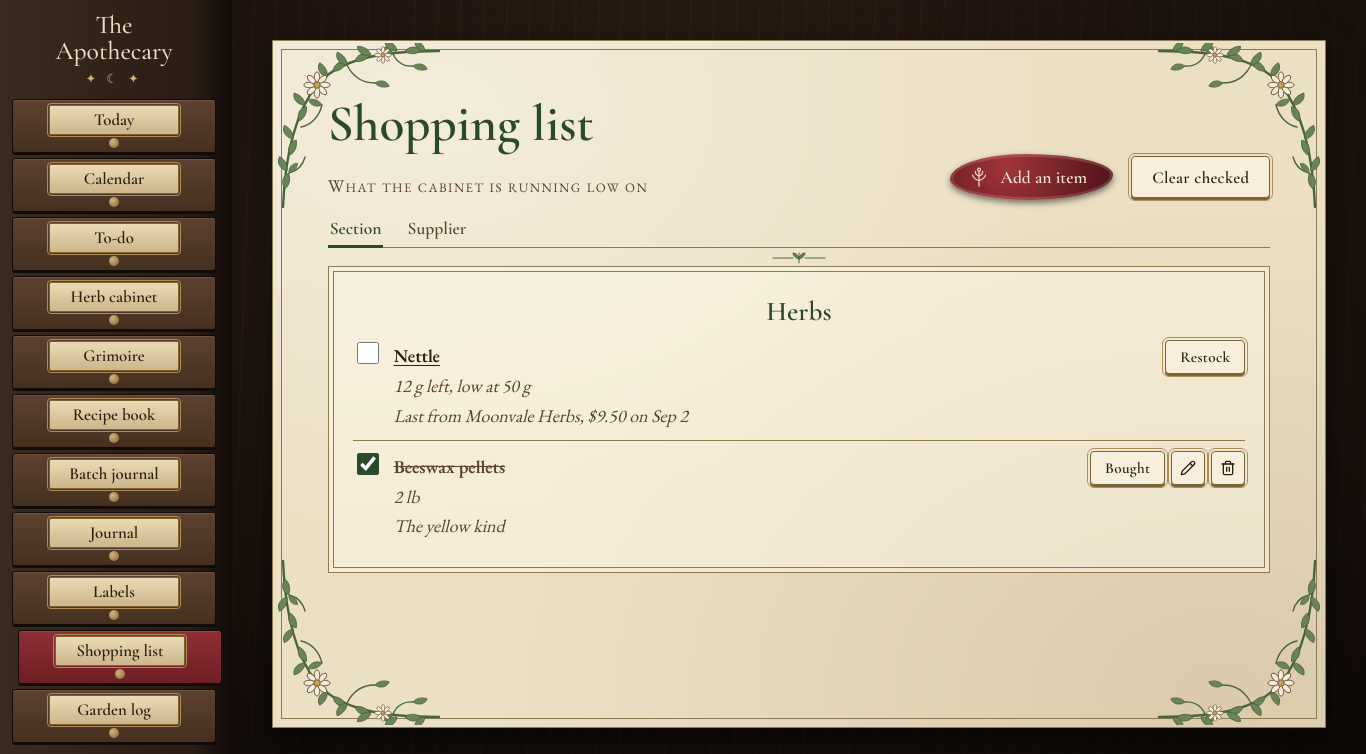
sends one clear for a double click
Expected: the checkbox named "Nettle" is shown, left=357, top=342, right=379, bottom=364
Double-click the button "Clear checked" at [1201, 177], box left=1131, top=156, right=1270, bottom=198
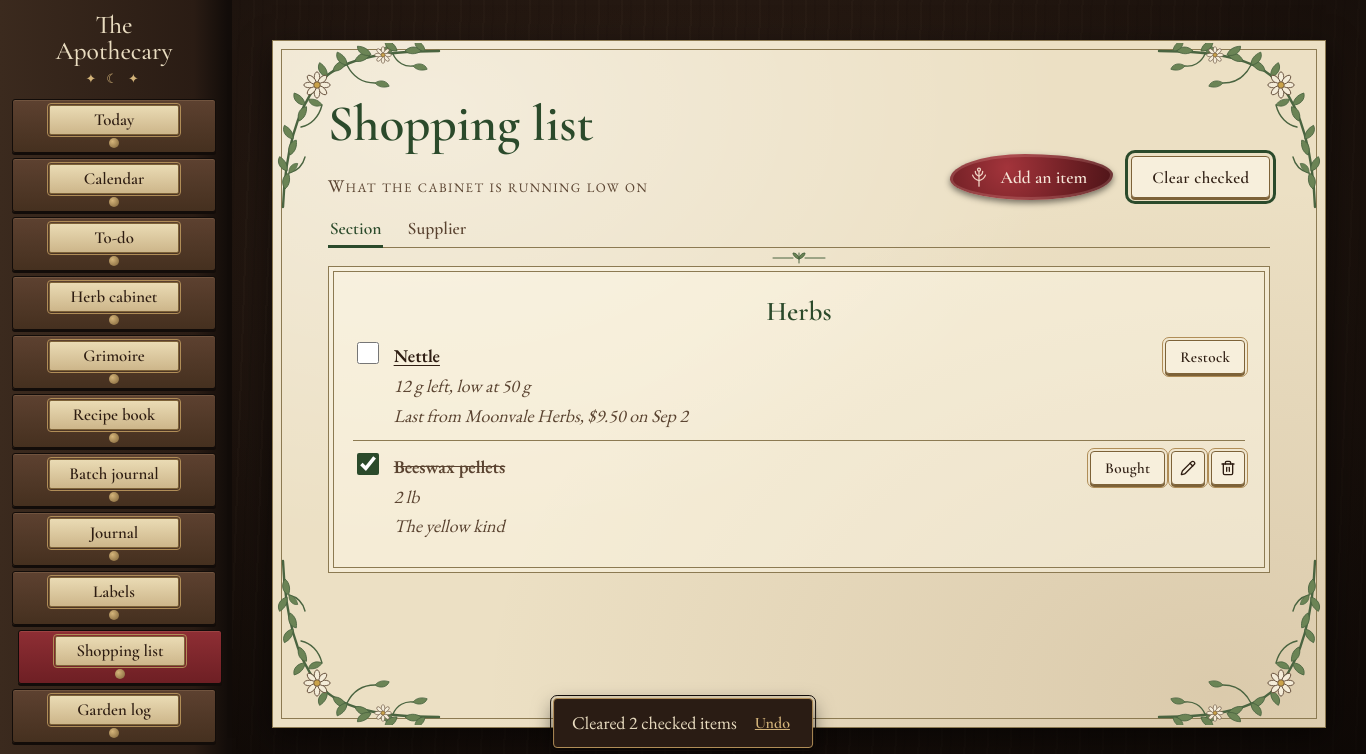
Expected: the button "Undo" is shown, left=751, top=709, right=794, bottom=737
